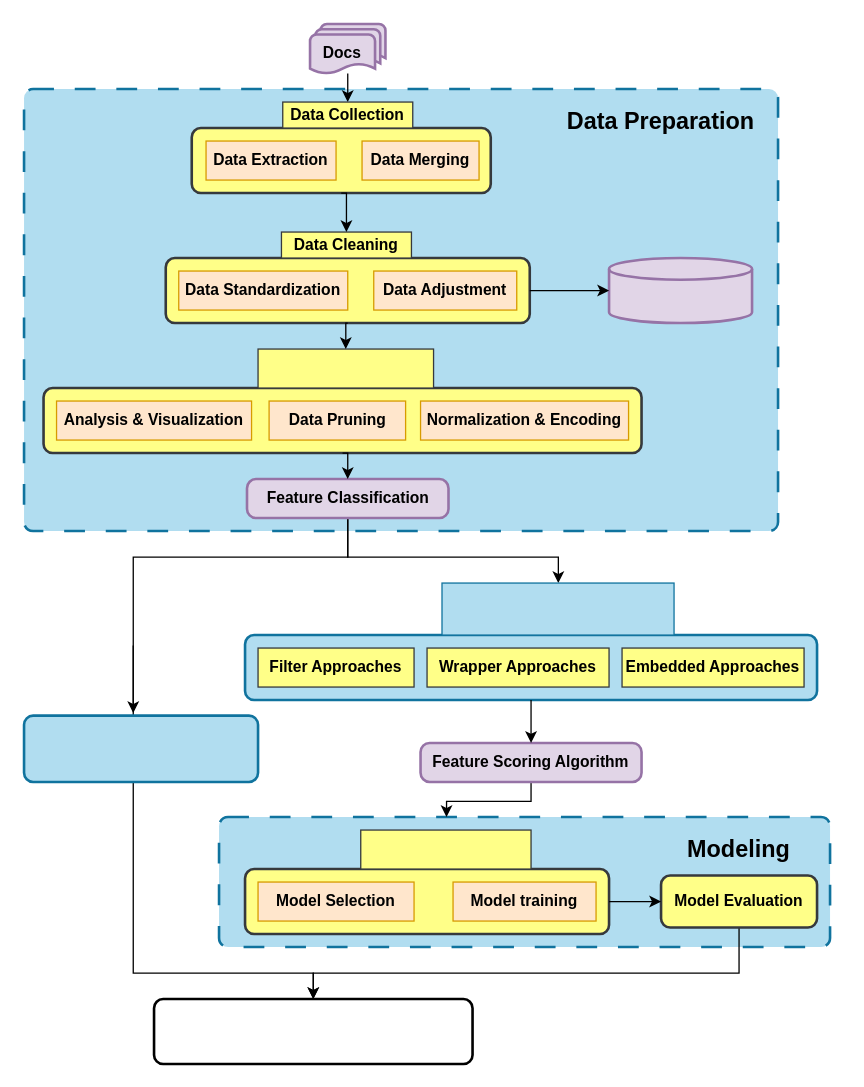
This 864x1087 diagram has some shape labels left out. The box of each missing label's shape, as (x1, y1, x2, y2) in pixels:
Cleaned Database: (607, 256, 753, 324)
Feature Engineering: (257, 348, 434, 388)
Feature Selection: (441, 582, 674, 635)
Model Development: (359, 829, 531, 869)
Results Analysis & Interpretation: (152, 997, 473, 1065)
Statistical Analysis: (22, 714, 259, 783)
